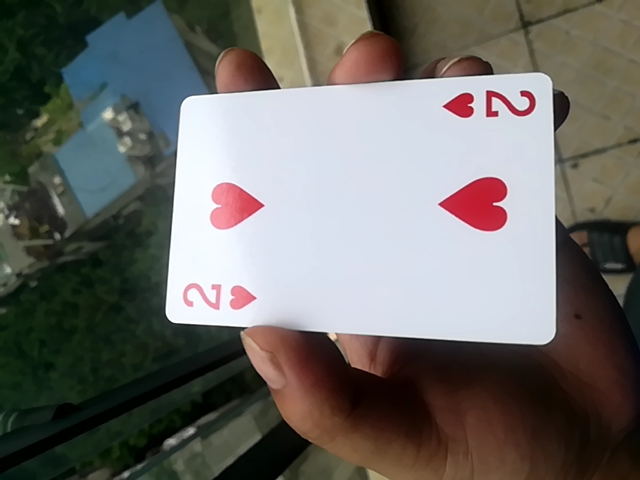hx 2: (158, 69, 566, 355)
